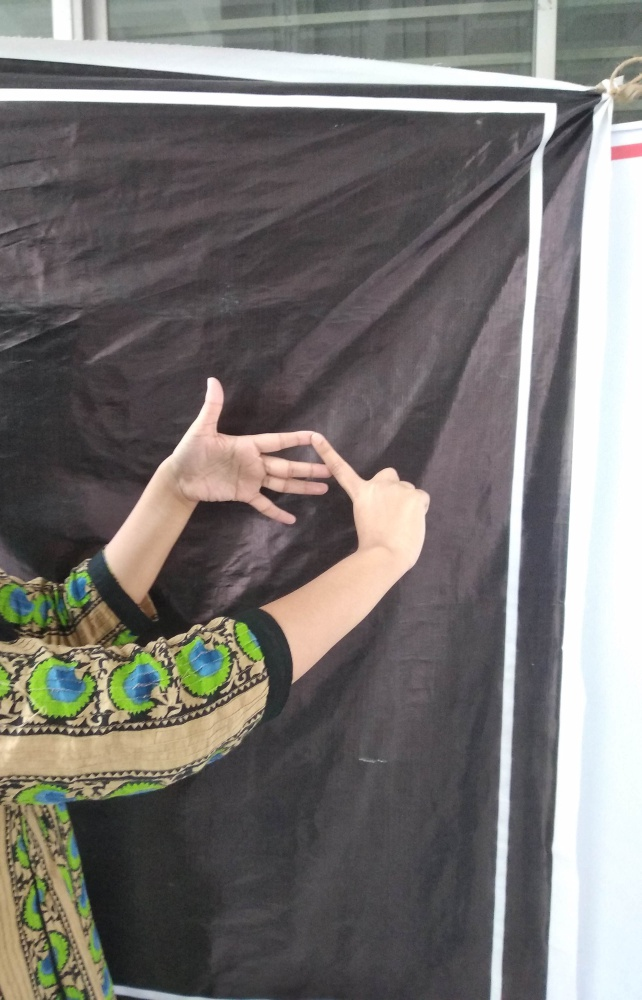o: (178, 374, 444, 569)
